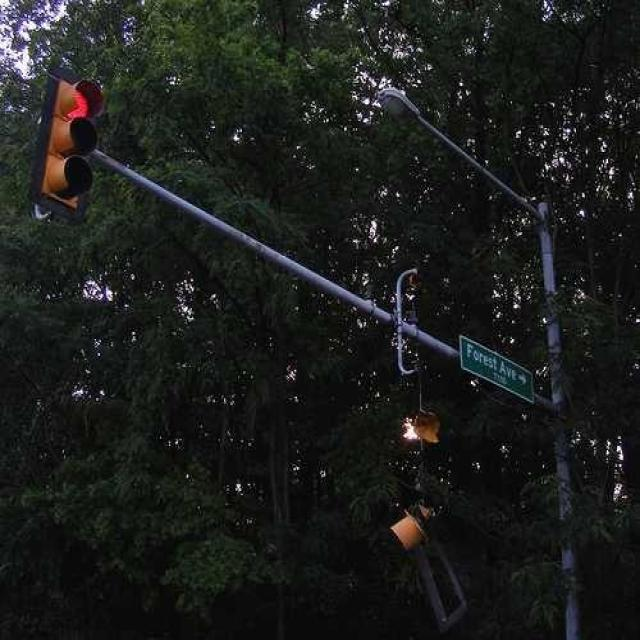Traffic Light -Red-: (51, 75, 104, 206)
